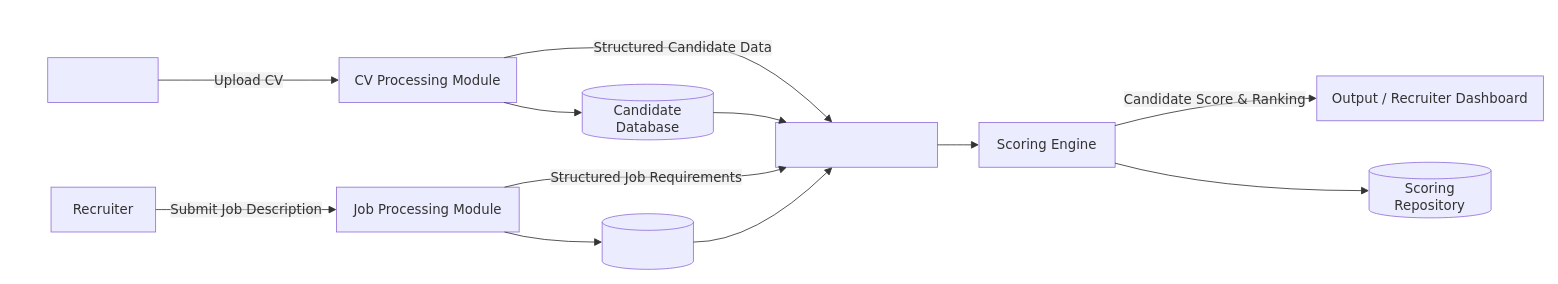
Image size: 1558x284. Some labels were removed from this diagram. Here are the shapes that lost their labels. From the top down, the centre of each, then its label:
At point (102, 80): "Candidate".
At point (856, 144): "AI Matching Engine".
At point (647, 241): "Job Database".
